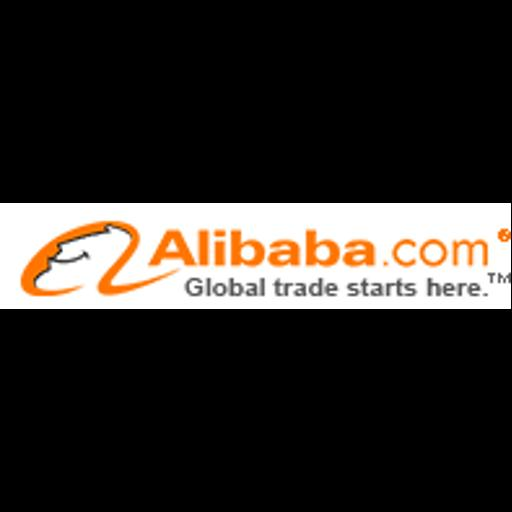Alibaba: (0, 203, 511, 309)
